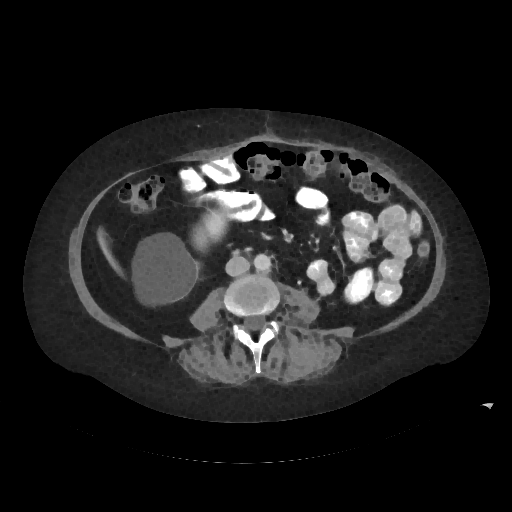Lesion: (128, 228, 198, 306)
